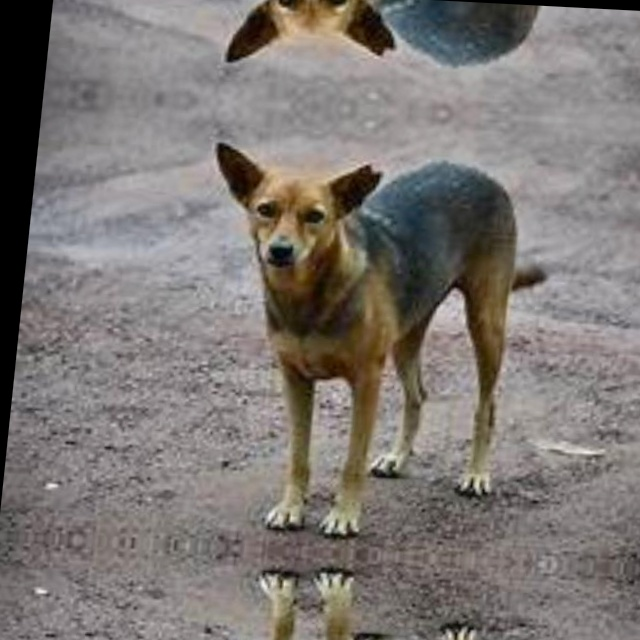dog: (187, 134, 593, 565), (175, 546, 550, 640), (236, 0, 608, 89)
